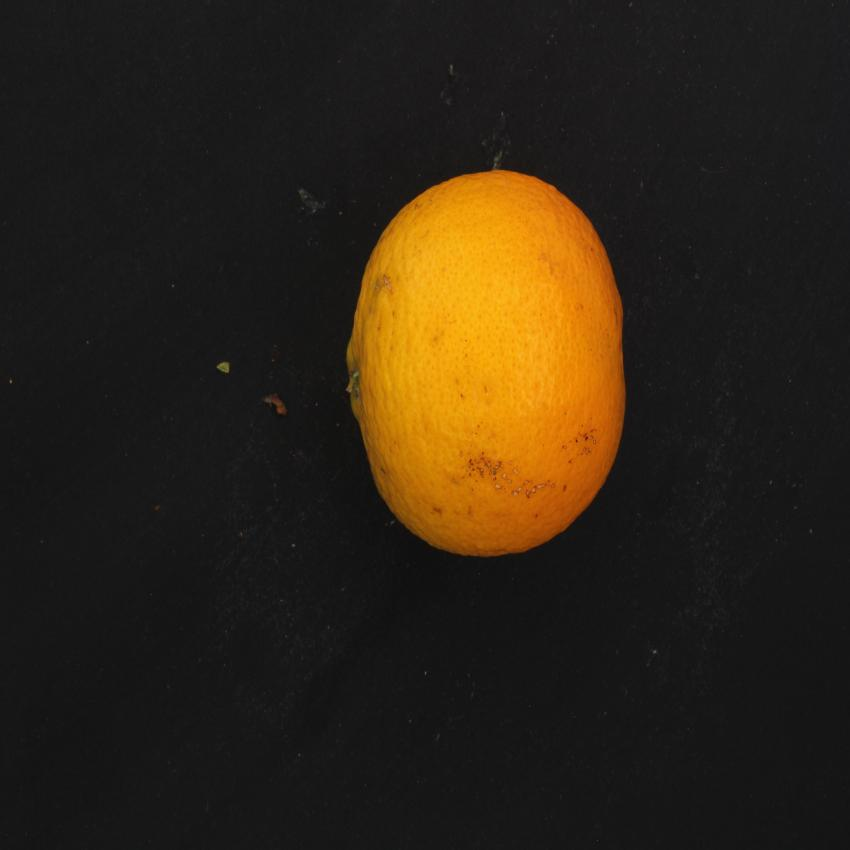Buen estado: (342, 158, 630, 572)
